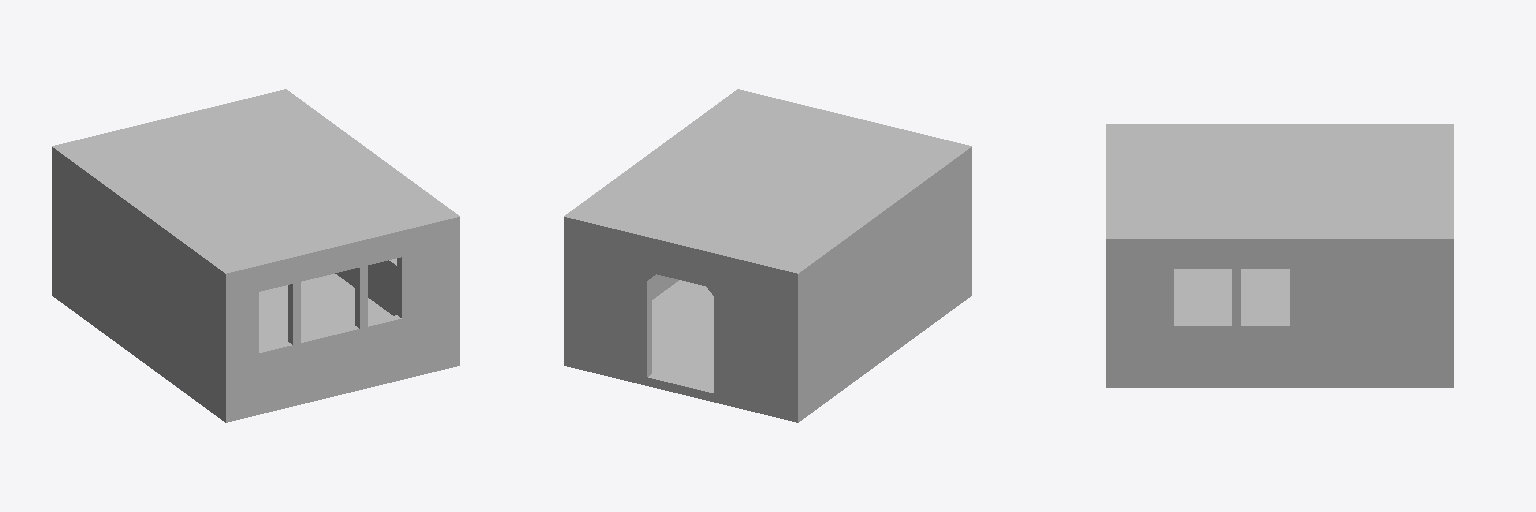
The picture shows the model from 3 angles: view 1: azimuth 30°, elevation 25°; view 2: azimuth 150°, elevation 25°; view 3: azimuth 270°, elevation 25°; orthographic projection.
Visible parts, largest first — view 1: kek1_Material.001; view 2: kek1_Material.001; view 3: kek1_Material.001.
Part boxes in pixels (x1,y1,x2,y2): kek1_Material.001: (52, 89, 459, 422); kek1_Material.001: (564, 89, 971, 422); kek1_Material.001: (1106, 124, 1453, 387).
Size of the model in its own units: 7 by 4.25 by 9.